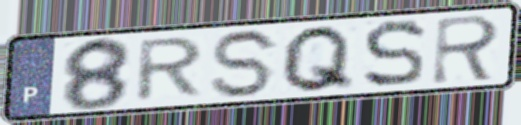8: (59, 34, 135, 113)
Q: (277, 22, 357, 95)
R: (428, 12, 504, 87), (131, 34, 209, 104)
S: (209, 27, 284, 101), (360, 17, 429, 91)
